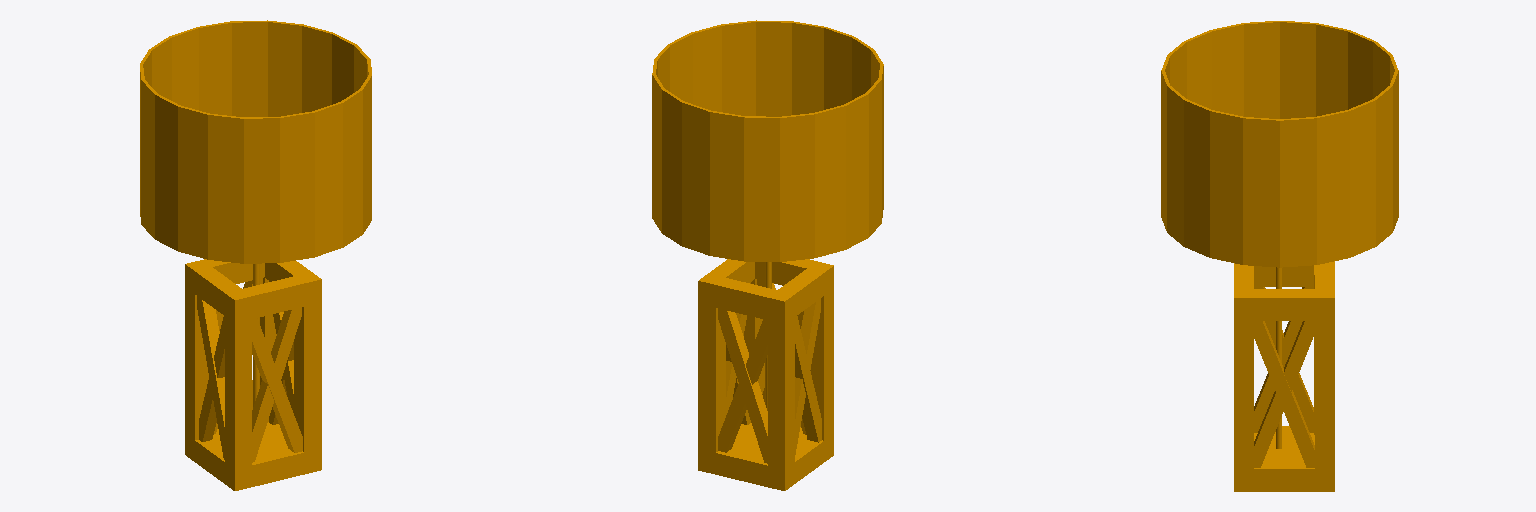
robot.urdf — mesh_object:
<robot name="mesh_object">
            <link name="base">
                <visual>
                    <geometry>
                        <mesh filename="lampshade_0.obj" scale="1 1 1" />
                    </geometry>
                </visual>
                <collision>
                    <geometry>
                        <mesh filename="lampshade_0.obj" scale="1 1 1" />
                    </geometry>
                </collision>
                <inertial>
                    <origin xyz="0.000000 0.000000 0.028768" rpy="0 0 0" />
                    <mass value="0.5" />
                    <inertia ixx="0.01" iyy="0.01" izz="0.01" ixy="0" ixz="0" iyz="0" />
                </inertial>
            </link>
            </robot>

--- Render facts (derived) ---
The picture shows the robot from 3 angles, left to right: view 1: azimuth 30°, elevation 25°; view 2: azimuth 150°, elevation 25°; view 3: azimuth 270°, elevation 25°; orthographic projection.
Model mesh_object with 1 links and 0 joints (none), rooted at base, posed every joint at zero.
Links seen in each view (by area): view 1: base; view 2: base; view 3: base.
Link boxes in pixels (x1=…): base: x1=140, y1=20, x2=371, y2=490; base: x1=652, y1=20, x2=883, y2=490; base: x1=1161, y1=21, x2=1398, y2=491.
Bounding box of the posed robot: 0.031 × 0.031 × 0.0575 m (x, y, z).
1 mesh visuals loaded from 1 distinct referenced files (1 OBJ).
